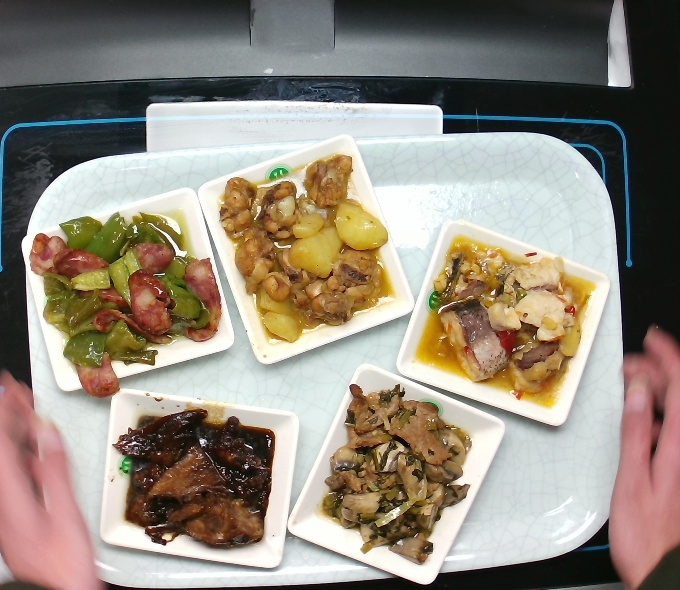wcq-JiangZhiYa: (111, 404, 279, 550)
wcq-MoGuRouPian: (317, 378, 475, 568)
wcq-QingJiaoXiangChang: (23, 207, 225, 401)
wcq-SuanCaiYu: (413, 234, 598, 406)
wcq-TuDouJiKuai: (217, 151, 394, 346)
